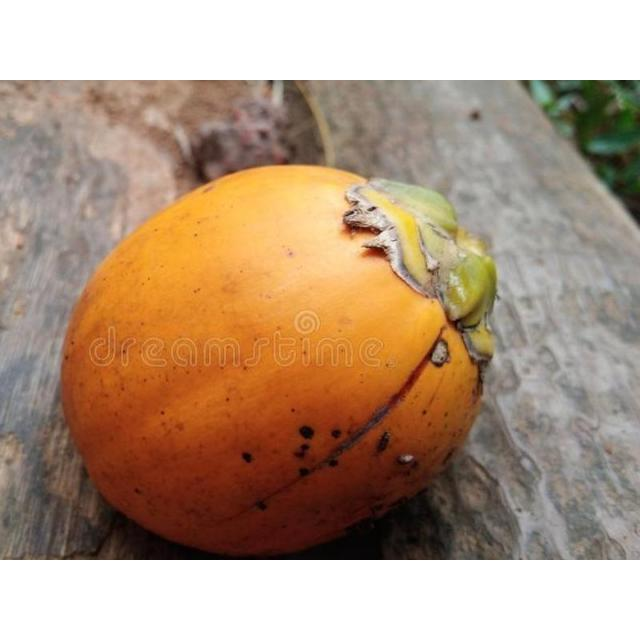good: (58, 165, 497, 559)
